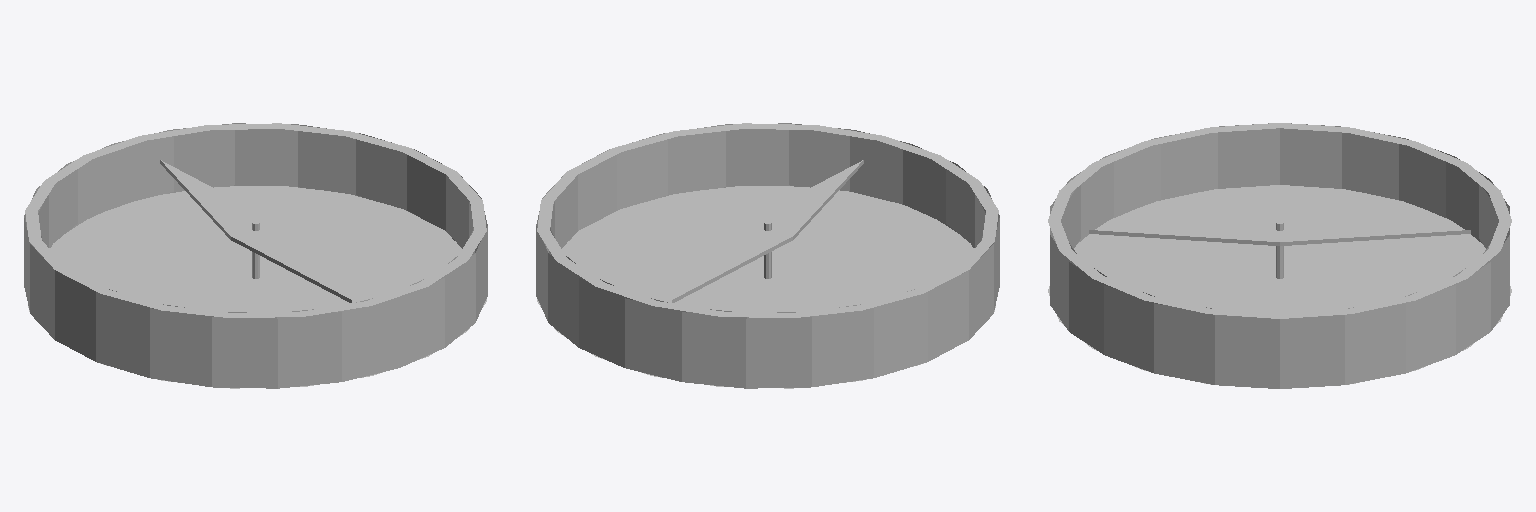
Rendered from Kompass.obj.
3 views of the same model, side by side, from view 1: azimuth 30°, elevation 25°; view 2: azimuth 150°, elevation 25°; view 3: azimuth 270°, elevation 25° (orthographic).
Visible parts, largest first — view 1: nurbsToPoly21, nurbsToPoly15, nurbsToPoly14, nurbsToPoly23, nurbsToPoly7, nurbsToPoly20; view 2: nurbsToPoly21, nurbsToPoly15, nurbsToPoly14, nurbsToPoly23, nurbsToPoly7, nurbsToPoly16; view 3: nurbsToPoly21, nurbsToPoly15, nurbsToPoly14, nurbsToPoly23, nurbsToPoly7, nurbsToPoly17, nurbsToPoly6.
Part boxes in pixels (left/top/right/bottom): nurbsToPoly21: left=24, top=123, right=487, bottom=388; nurbsToPoly15: left=50, top=186, right=461, bottom=312; nurbsToPoly14: left=37, top=129, right=474, bottom=318; nurbsToPoly23: left=25, top=123, right=486, bottom=317; nurbsToPoly7: left=192, top=188, right=349, bottom=298; nurbsToPoly20: left=133, top=198, right=205, bottom=231; nurbsToPoly21: left=536, top=123, right=999, bottom=388; nurbsToPoly15: left=562, top=186, right=973, bottom=312; nurbsToPoly14: left=549, top=129, right=986, bottom=318; nurbsToPoly23: left=537, top=123, right=998, bottom=317; nurbsToPoly7: left=704, top=160, right=862, bottom=270; nurbsToPoly16: left=822, top=200, right=884, bottom=232; nurbsToPoly21: left=1050, top=123, right=1509, bottom=388; nurbsToPoly15: left=1074, top=185, right=1485, bottom=313; nurbsToPoly14: left=1063, top=128, right=1496, bottom=317; nurbsToPoly23: left=1048, top=123, right=1511, bottom=318; nurbsToPoly7: left=1095, top=218, right=1385, bottom=241; nurbsToPoly17: left=1259, top=194, right=1320, bottom=219; nurbsToPoly6: left=1089, top=230, right=1279, bottom=245.
Bounding box in the file's own units: 2.27 × 0.3777 × 2.27.